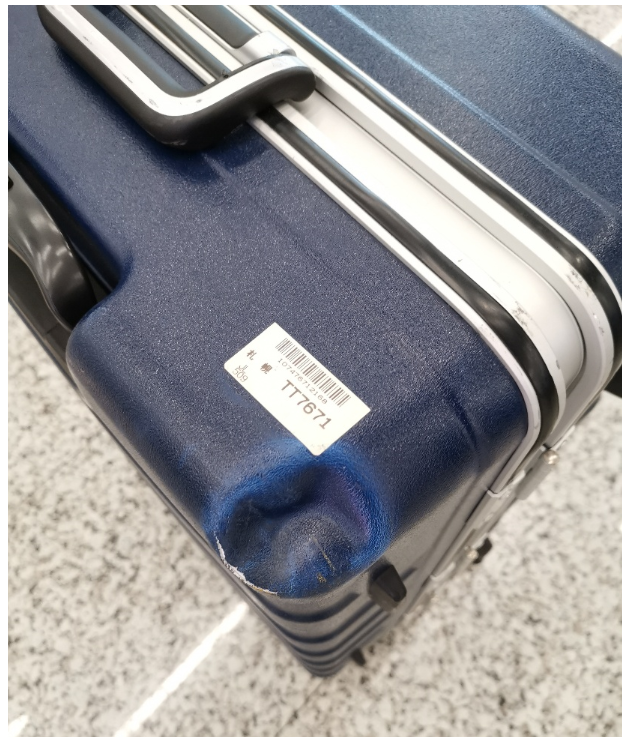rupture: (206, 453, 384, 600)
